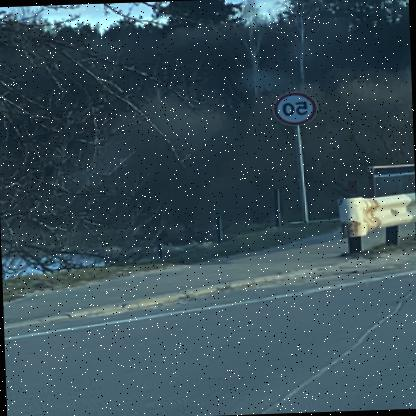speedlimit: (274, 90, 320, 127)
